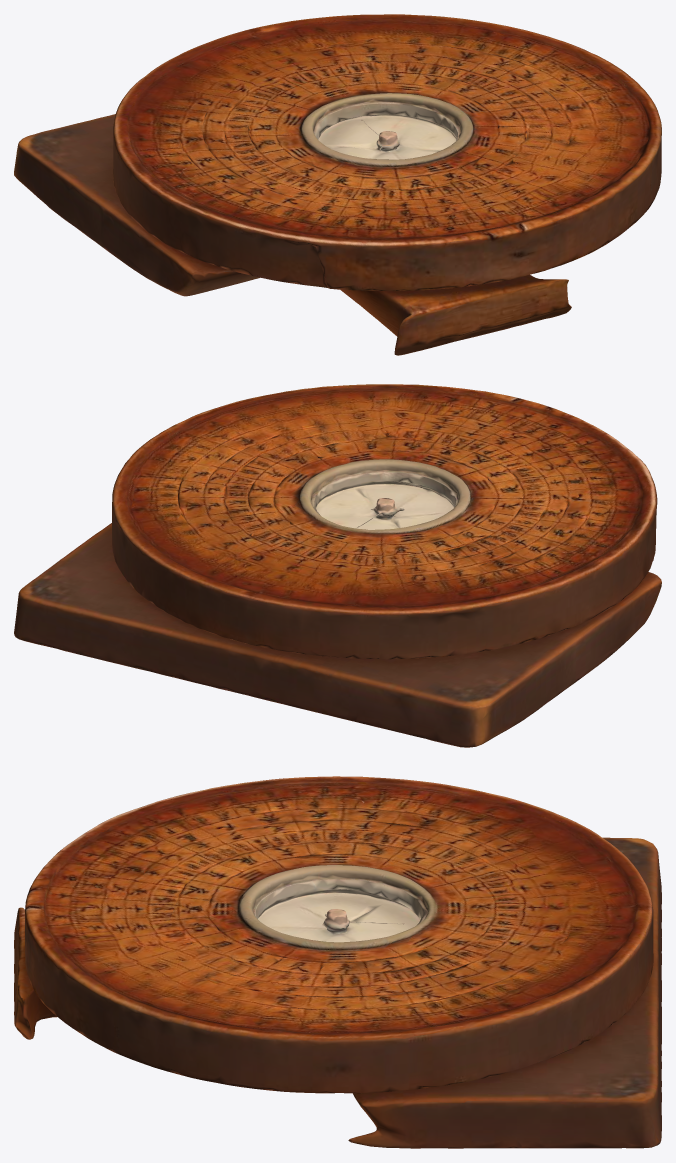
Rendered from prop_luopan.glb.
3 renders of one model, top to bottom at view 1: azimuth 30°, elevation 25°; view 2: azimuth 150°, elevation 25°; view 3: azimuth 270°, elevation 25°, orthographic. The views are drawn at different scales.
Parts seen in each view (by area): view 1: Mesh; view 2: Mesh; view 3: Mesh.
Boxes of the visible parts, box(x1,y1,x2,y2) form: Mesh: box(14, 14, 661, 355); Mesh: box(14, 384, 661, 747); Mesh: box(14, 776, 661, 1148).
Bounding box in the file's own units: 0.969 × 0.1933 × 1.
1 material, 1 textured.
